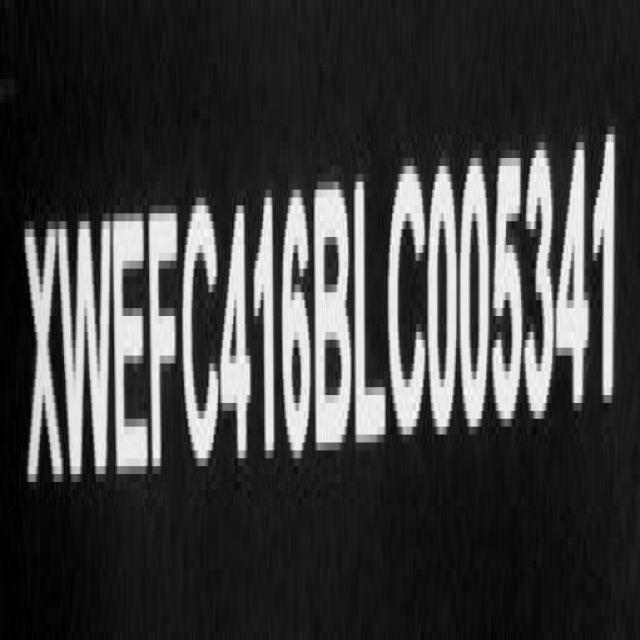0: (462, 152, 492, 442), (430, 158, 459, 446)
1: (595, 117, 623, 422), (257, 189, 279, 477)
3: (525, 138, 556, 430)
4: (554, 127, 590, 426), (220, 195, 253, 482)
5: (493, 141, 526, 435)
6: (282, 179, 316, 469)
B: (315, 174, 353, 464)
C: (391, 167, 430, 453), (186, 200, 223, 488)
E: (115, 206, 152, 495)
F: (150, 200, 183, 493)
L: (355, 167, 389, 456)
W: (61, 209, 115, 495)
X: (24, 213, 64, 502)
